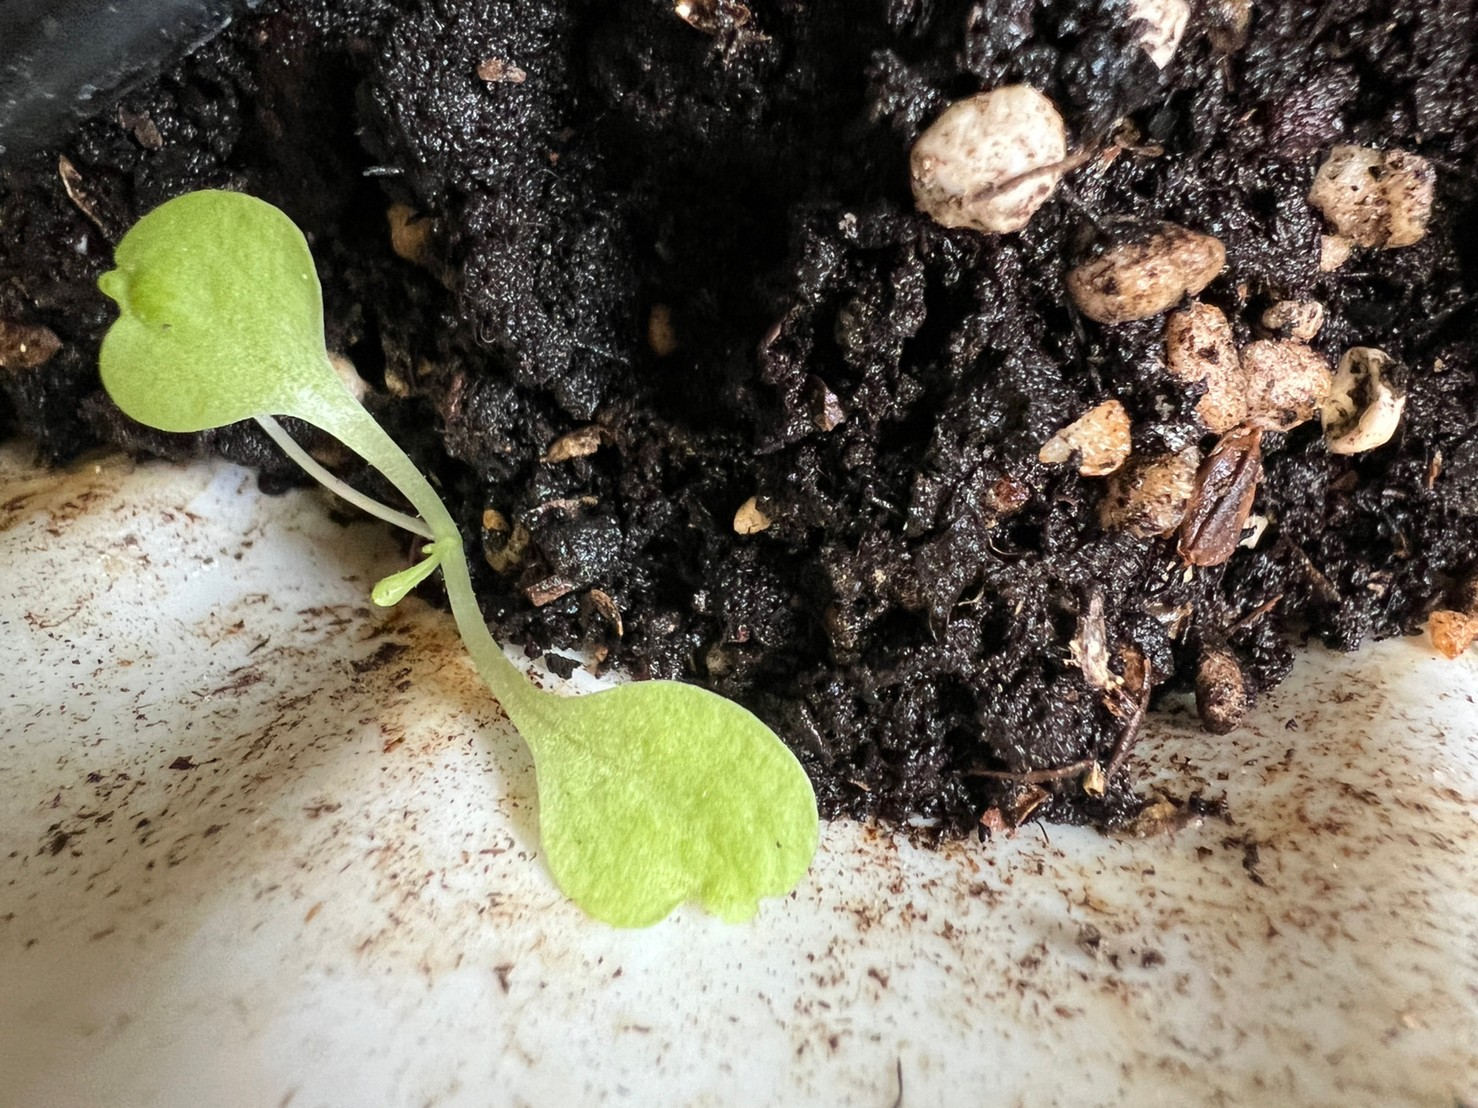week2: (49, 166, 447, 498), (471, 615, 862, 951)
